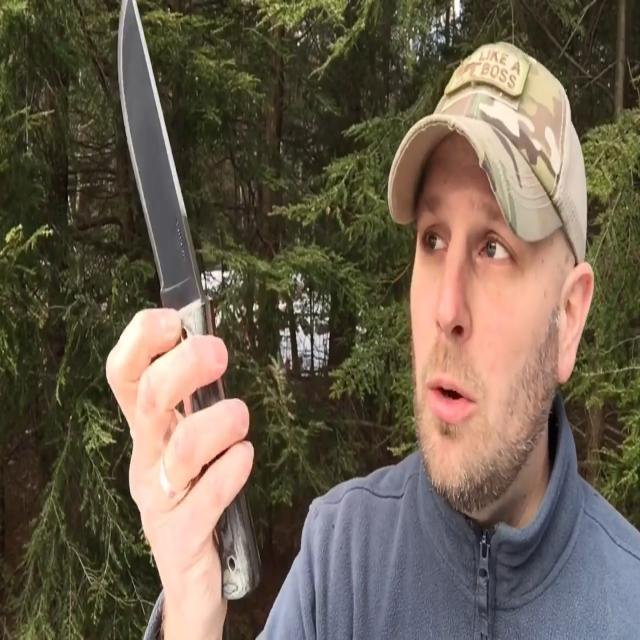knife: (114, 1, 272, 603)
